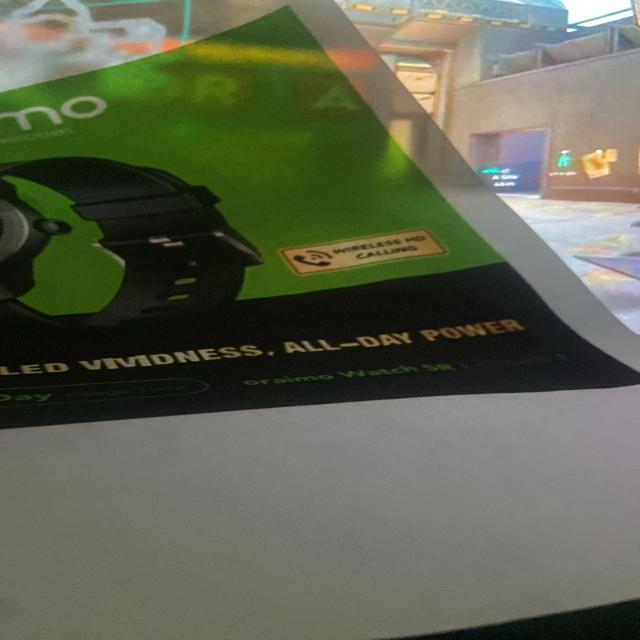Oraimo Watch 5R OSW-820: (223, 346, 586, 400)
